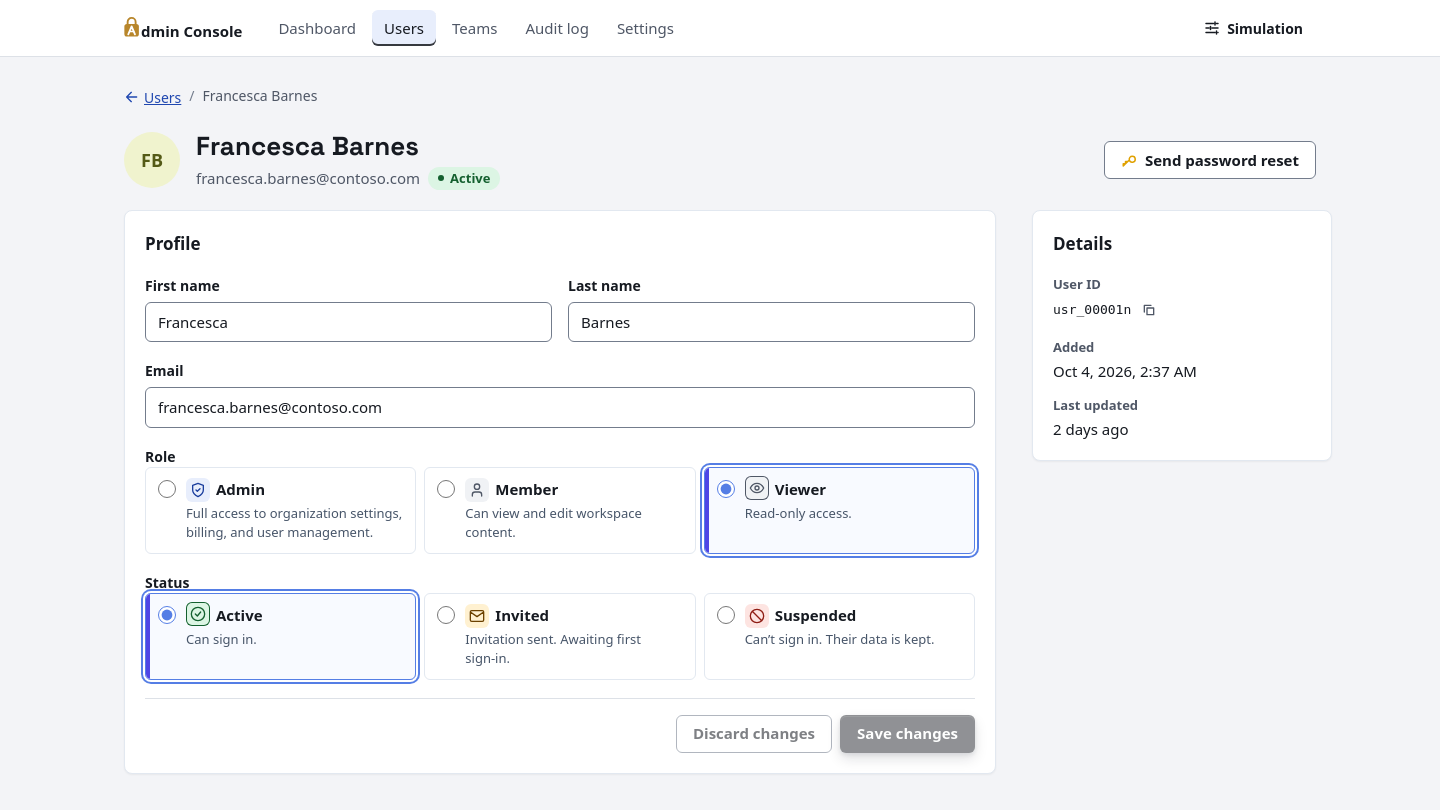
Scenario: User details › can discard local edits in favour of the latest version after a 412
Type "X" into the field labelled "First name".
click(348, 322); type("X")  # box [145, 302, 552, 342]
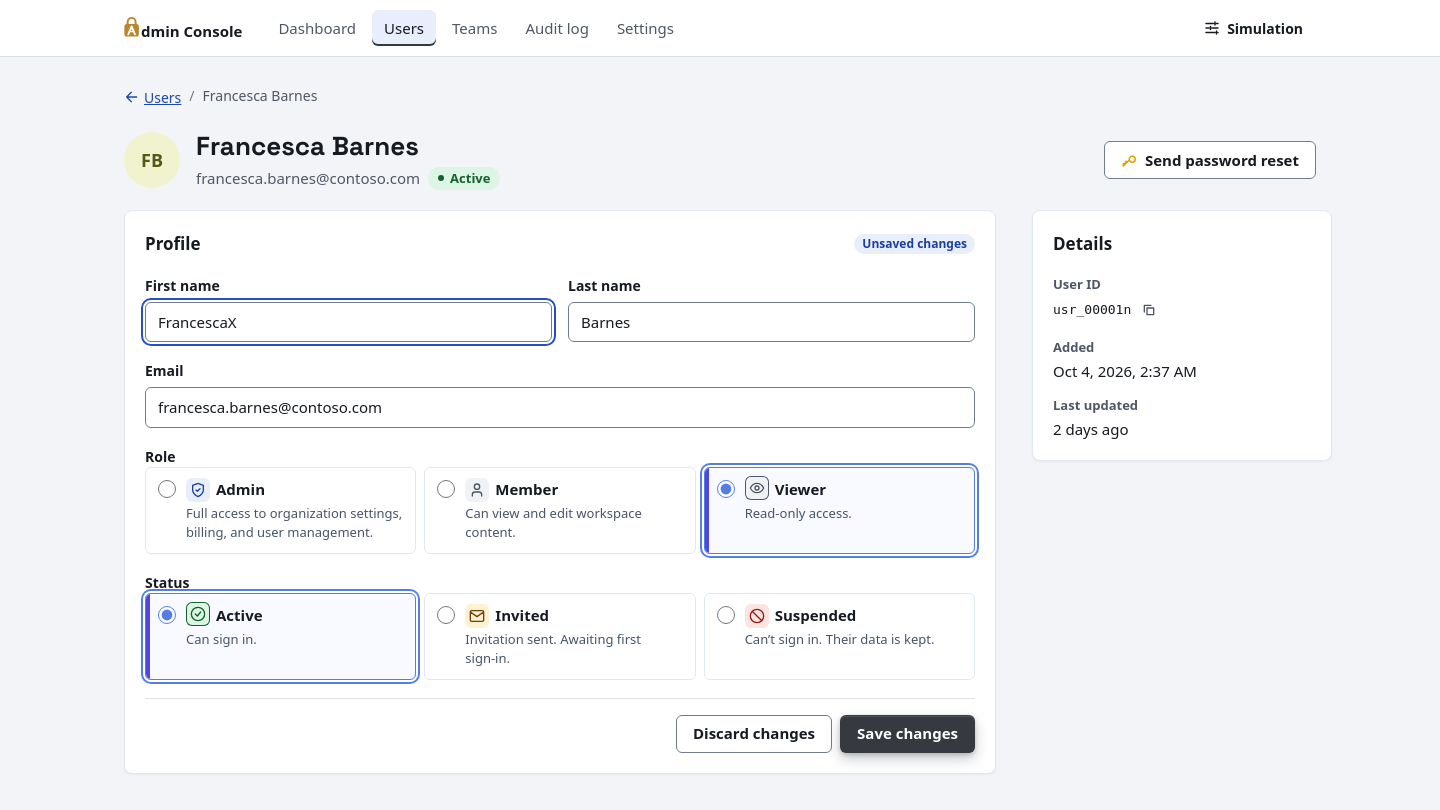
Click the button "Save changes".
click(908, 734)  # box [840, 714, 975, 752]
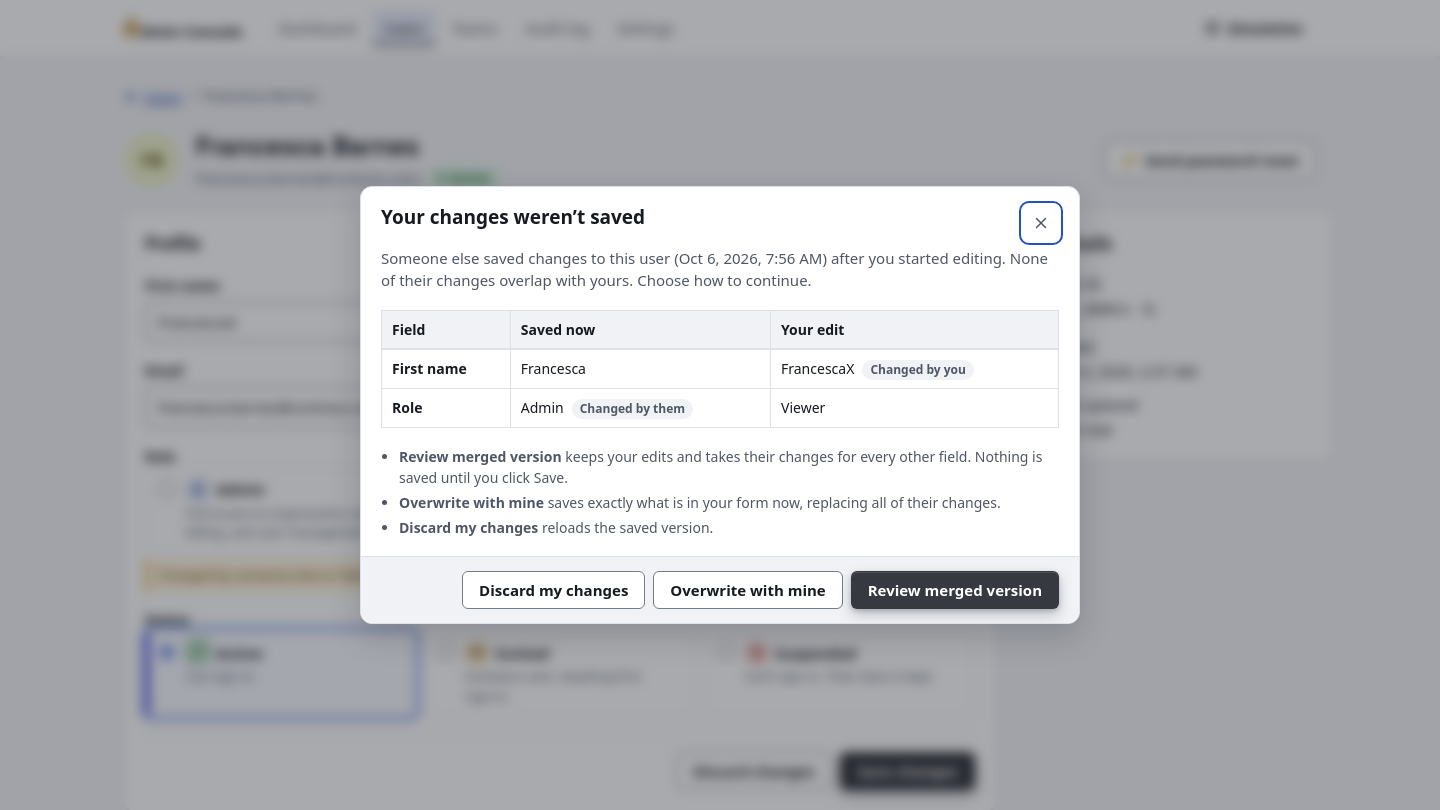
expect the table is shown: met, box [381, 310, 1059, 428]
Click the button "Discard my changes".
click(554, 590)  # box [462, 571, 645, 609]
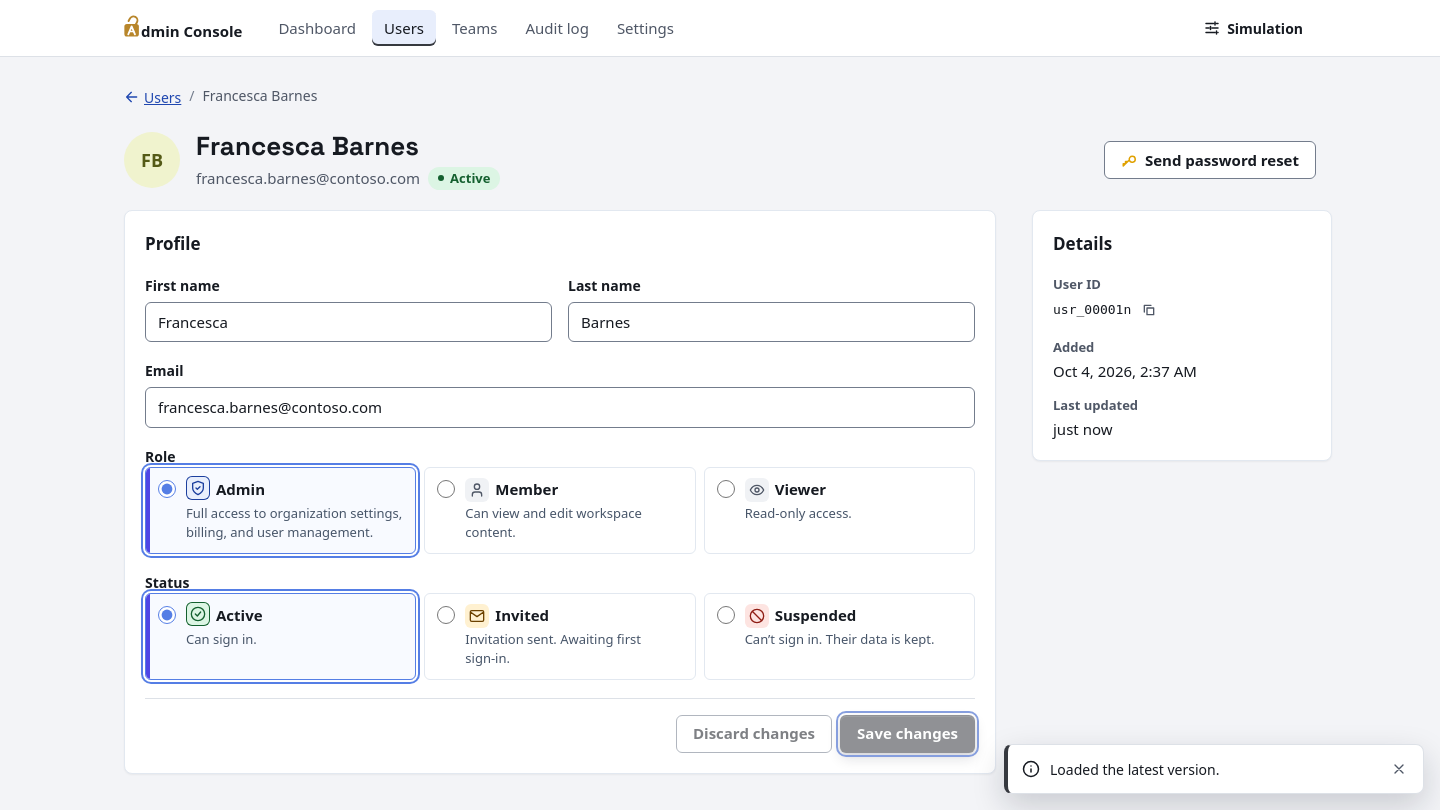
expect the text "Unsaved changes" is not shown: met
expect the field labelled "First name" holds "Francesca": met, box [145, 302, 552, 342]
